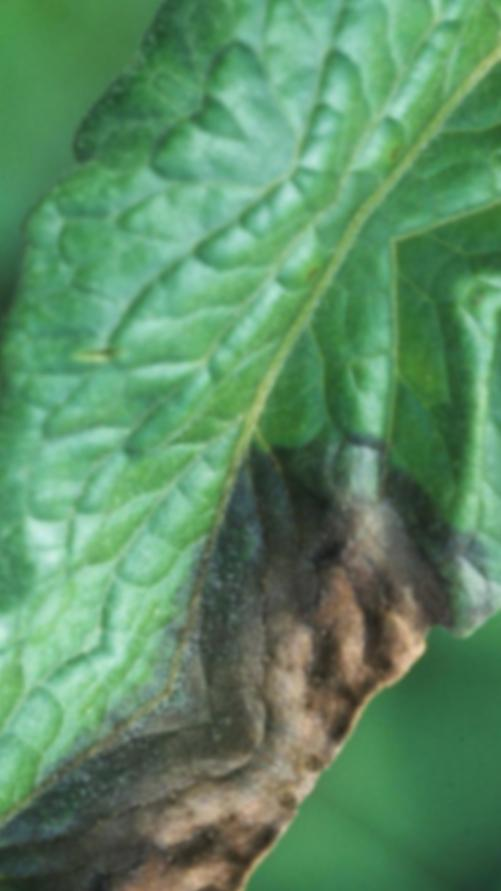Tomato leaf late blight: (0, 46, 501, 869)
